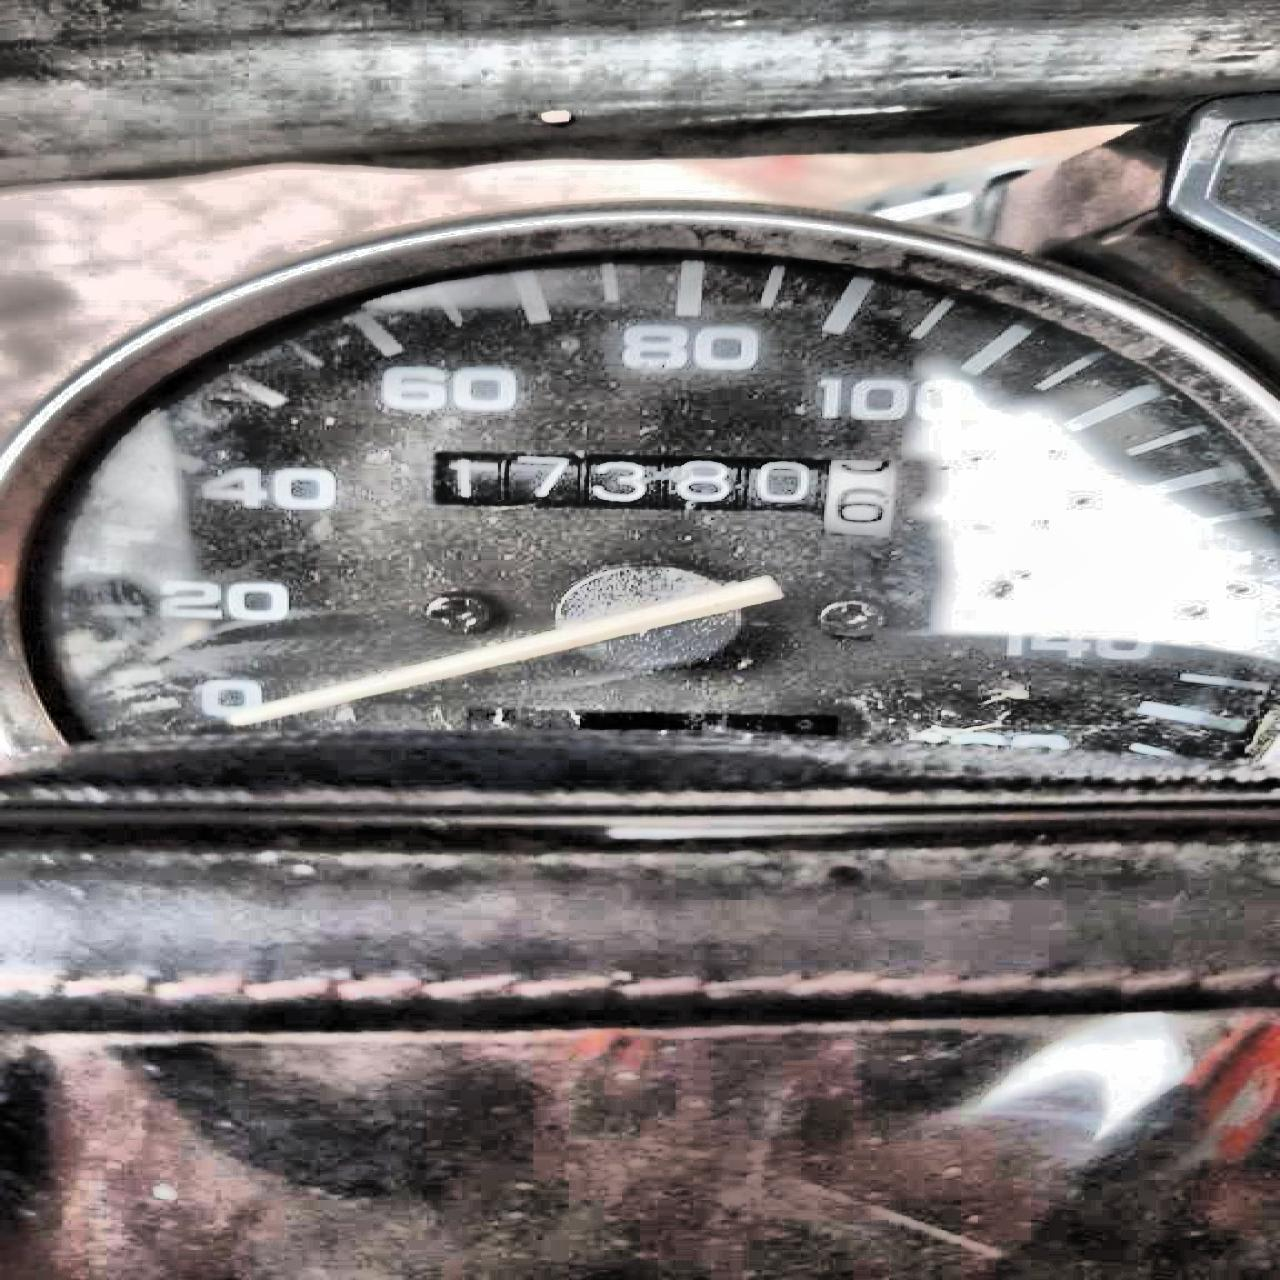0: (751, 454, 813, 511)
1: (440, 450, 484, 515)
3: (585, 456, 647, 504)
6: (826, 481, 896, 529)
7: (511, 450, 576, 501)
8: (674, 457, 735, 505)
odometer: (418, 441, 918, 545)
